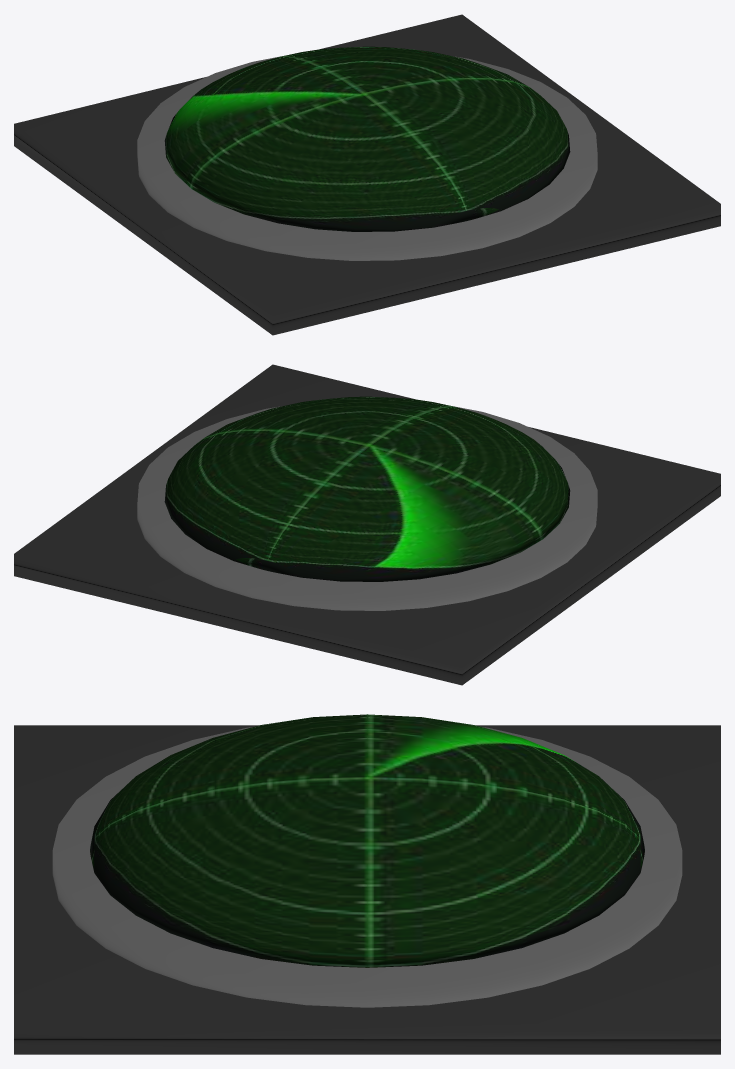
File: радарчик.fbx
The picture shows the model from 3 angles, top to bottom: view 1: azimuth 30°, elevation 25°; view 2: azimuth 150°, elevation 25°; view 3: azimuth 270°, elevation 25°; orthographic projection. The views are drawn at different scales.
Parts seen in each view (by area): view 1: Sphere, Cube, Cylinder; view 2: Sphere, Cube, Cylinder; view 3: Sphere, Cube, Cylinder.
Part boxes in pixels (left/top/right/bottom): Sphere: left=164, top=46, right=570, bottom=231; Cube: left=14, top=14, right=720, bottom=335; Cylinder: left=137, top=56, right=597, bottom=260; Sphere: left=164, top=396, right=570, bottom=581; Cube: left=14, top=364, right=720, bottom=685; Cylinder: left=137, top=406, right=597, bottom=610; Sphere: left=90, top=714, right=644, bottom=967; Cube: left=14, top=725, right=720, bottom=1054; Cylinder: left=52, top=727, right=682, bottom=1007.
Bounding box in the file's own units: 200 × 39.25 × 200.
Materials: 3 (1 with a texture image).
